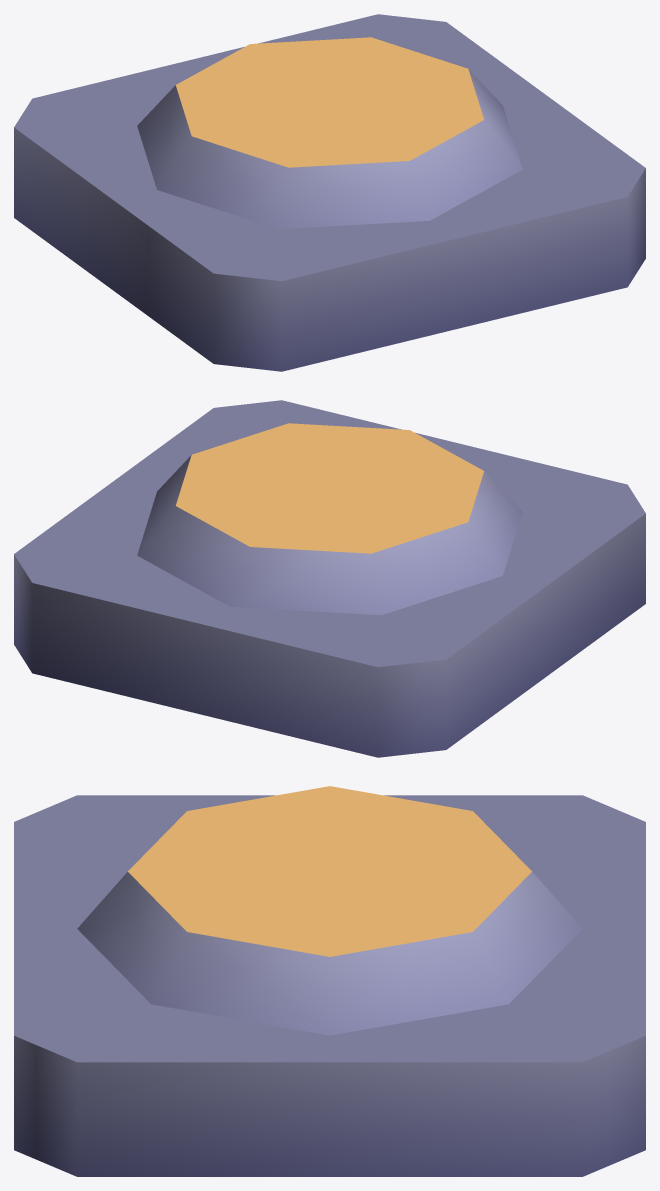
File: kenney-factory-button-floor-round.glb
The picture shows the model from 3 angles, top to bottom: view 1: azimuth 30°, elevation 25°; view 2: azimuth 150°, elevation 25°; view 3: azimuth 270°, elevation 25°; orthographic projection. The views are drawn at different scales.
Parts seen in each view (by area): view 1: button-floor-round, button; view 2: button-floor-round, button; view 3: button-floor-round, button.
Boxes of the visible parts, <box> form: button-floor-round: <box>14,14,645,371</box>; button: <box>137,37,522,229</box>; button-floor-round: <box>14,400,645,757</box>; button: <box>137,423,522,615</box>; button-floor-round: <box>14,795,645,1176</box>; button: <box>77,786,582,1035</box>.
Size of the model in its own units: 0.75 by 0.225 by 0.75.
Materials: 1 (1 with a texture image).
